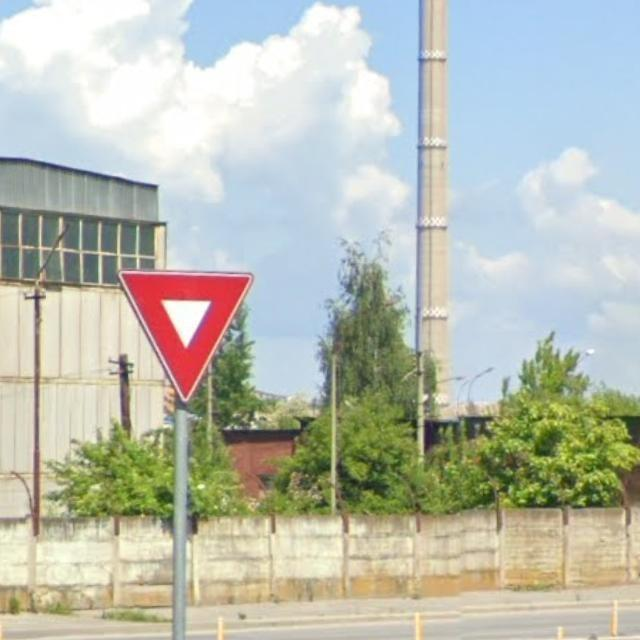prio_give_way: (118, 268, 254, 402)
